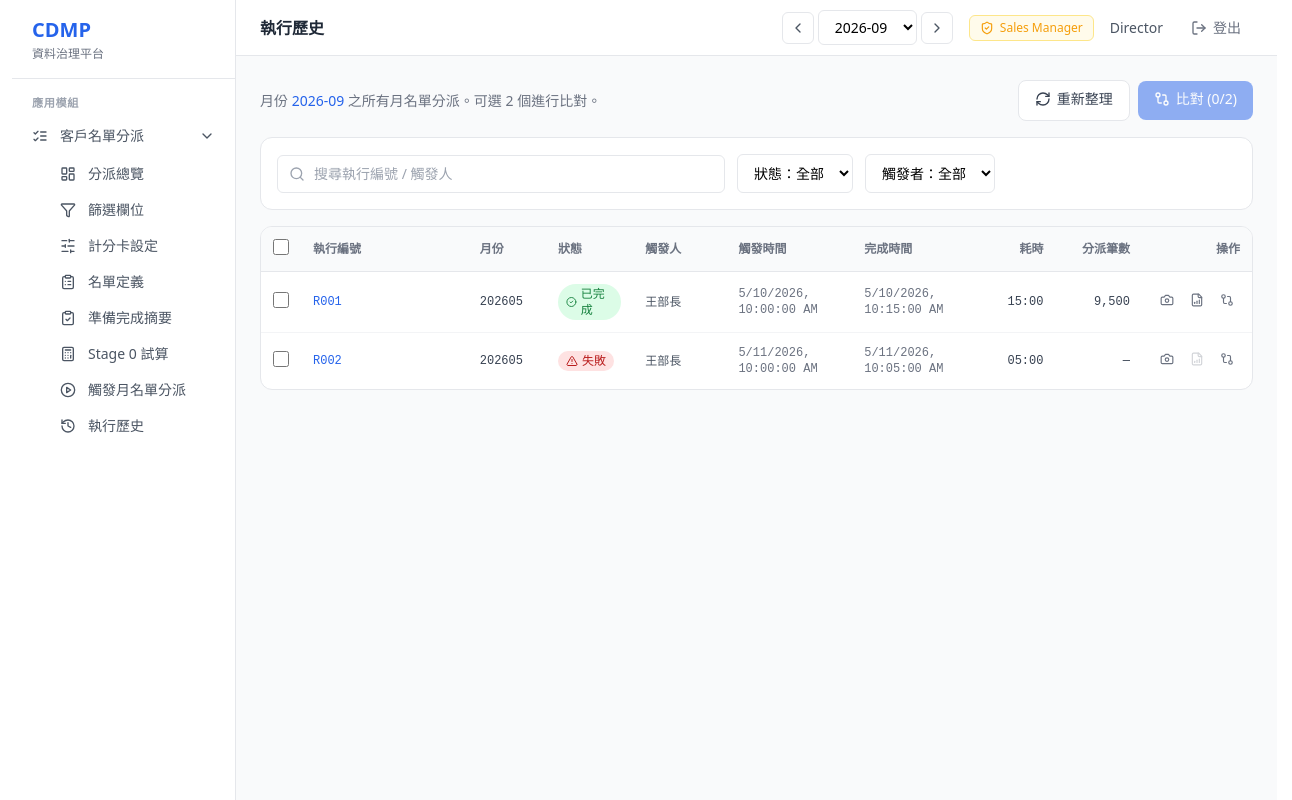
Test: RunHistoryPage (F065) › 搜尋 runId 子字串過濾
Check: the row with test id "run-row-R001" is shown, box [261,272,1252,332]
In the field with placeholder "搜尋執行編號 / 觸發人": point(501, 174) [277,154,725,192], type "R002"
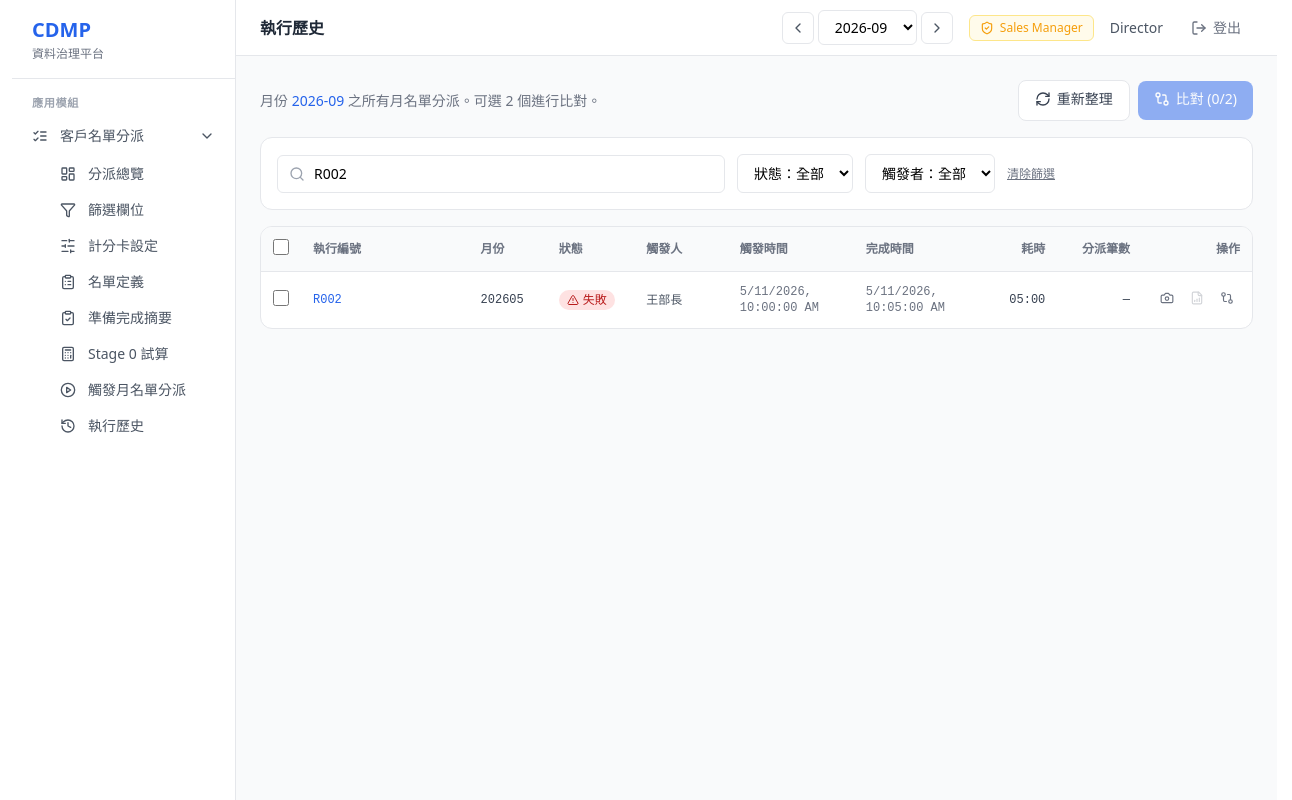
Check: the row with test id "run-row-R002" is shown, box [261,272,1252,328]
Check: the row with test id "run-row-R001" is gone
